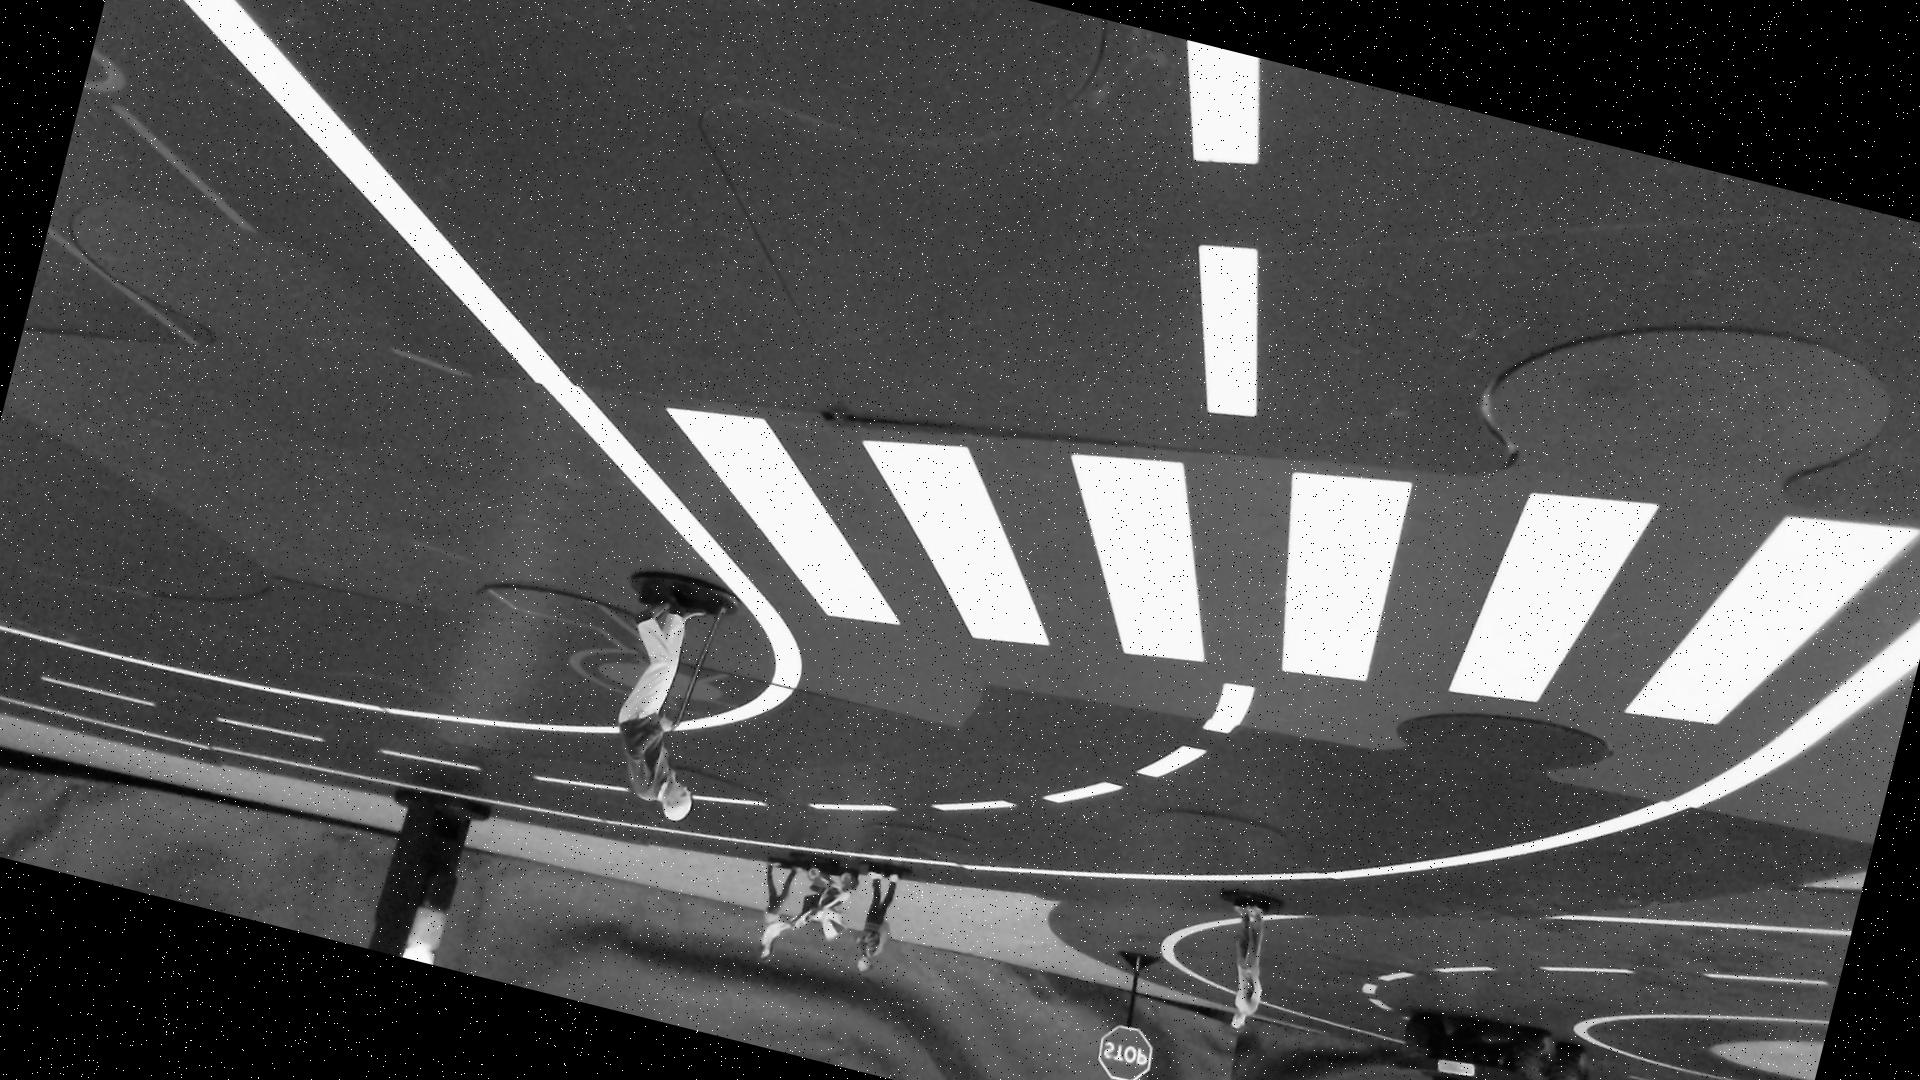crossing: (622, 190, 1920, 874)
person: (582, 572, 752, 828), (739, 844, 861, 988), (1202, 888, 1290, 1042), (843, 863, 912, 988)
